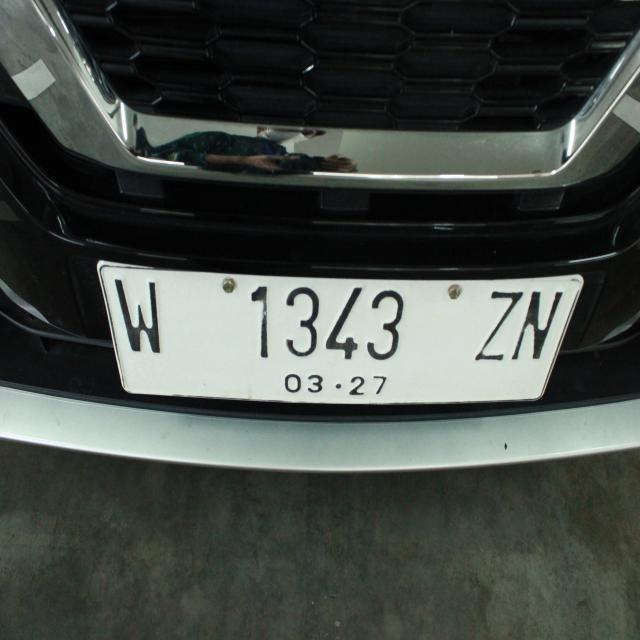1: (237, 278, 282, 375)
3: (278, 277, 322, 358)
4: (320, 276, 360, 366)
D: (359, 278, 406, 364)
N: (511, 282, 564, 376)
W: (104, 258, 168, 362)
Z: (474, 288, 522, 368)
